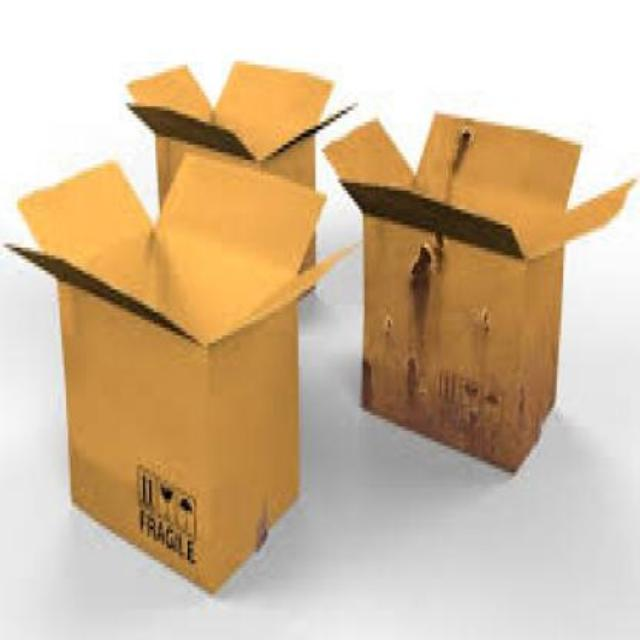cardboard_box: (23, 164, 361, 592), (320, 110, 636, 474), (130, 65, 320, 309)
